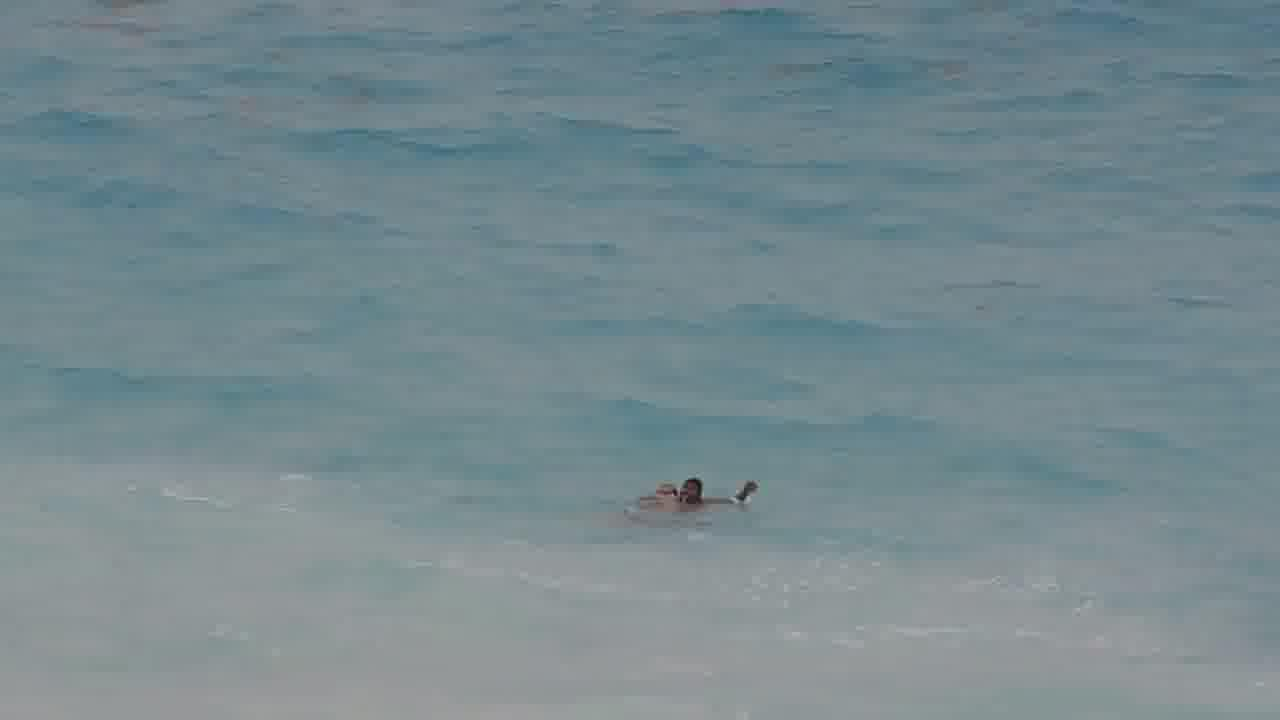human: (674, 467, 771, 511), (619, 475, 686, 518)
